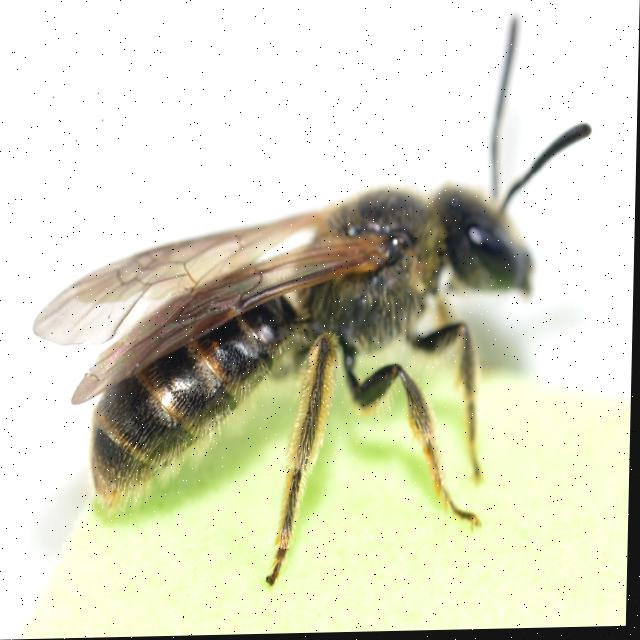Lasioglossum: (39, 5, 597, 580)
